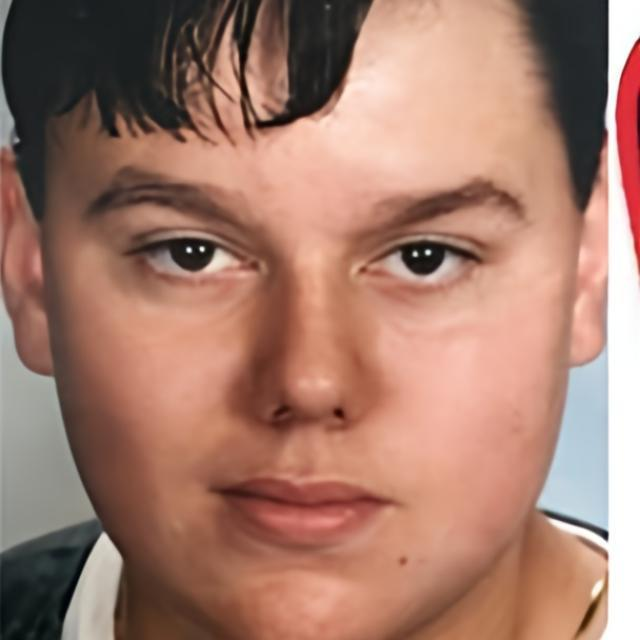content: (42, 0, 576, 640)
